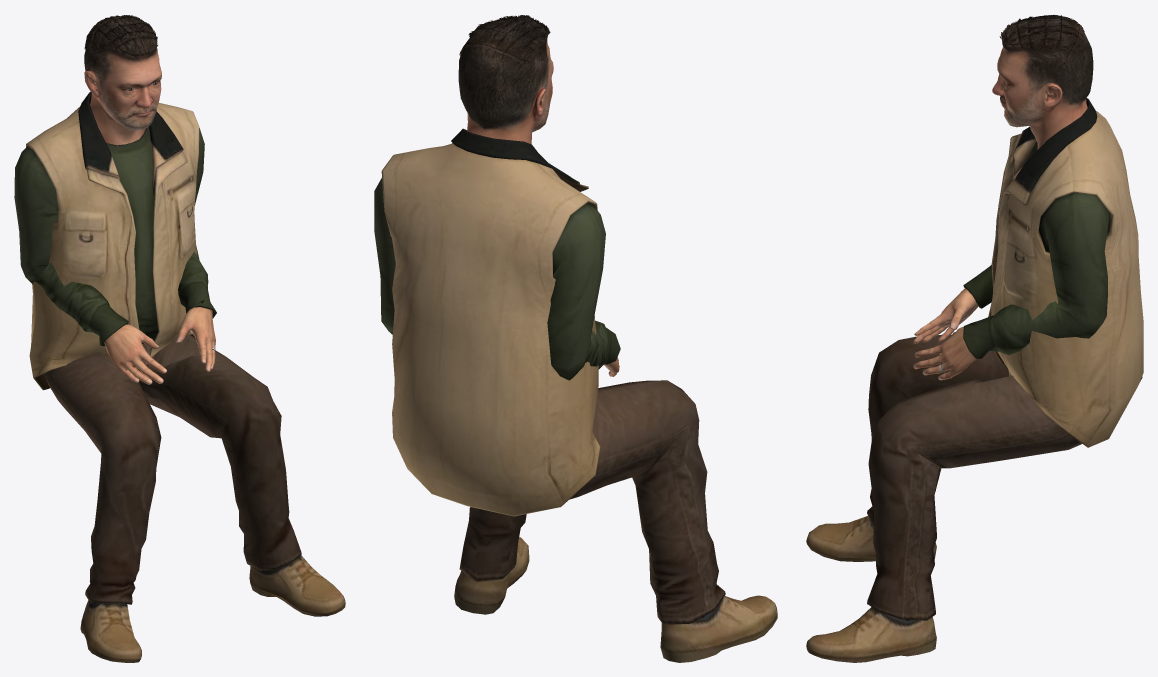
File: crew-director.glb
3 views of the same model, side by side, from view 1: azimuth 30°, elevation 25°; view 2: azimuth 150°, elevation 25°; view 3: azimuth 270°, elevation 25° (orthographic). The views are drawn at different scales.
Parts seen in each view (by area): view 1: director-mesh; view 2: director-mesh; view 3: director-mesh.
Boxes of the visible parts, box(x1,y1,x2,y2) form: director-mesh: box(14, 15, 345, 662); director-mesh: box(374, 15, 777, 662); director-mesh: box(806, 15, 1143, 662).
Size of the model in its own units: 0.6744 by 1.45 by 0.7537.
Materials: 3 (3 with a texture image).
